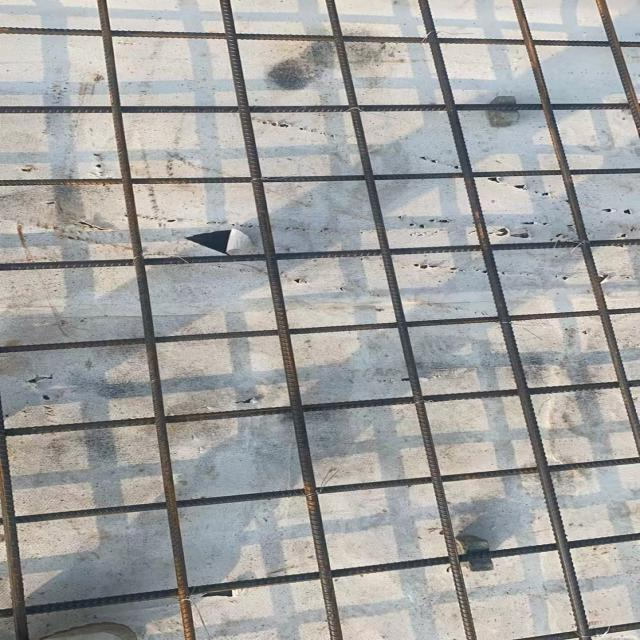ribbed bar: (417, 0, 593, 639), (325, 0, 478, 639), (220, 0, 345, 639), (96, 0, 195, 639), (512, 0, 638, 453), (0, 531, 638, 617), (0, 455, 638, 525), (4, 378, 639, 438), (0, 306, 638, 352), (0, 237, 638, 271), (0, 26, 638, 47), (0, 168, 638, 186), (0, 101, 638, 113), (0, 400, 27, 639), (596, 0, 639, 136), (508, 621, 638, 639)
